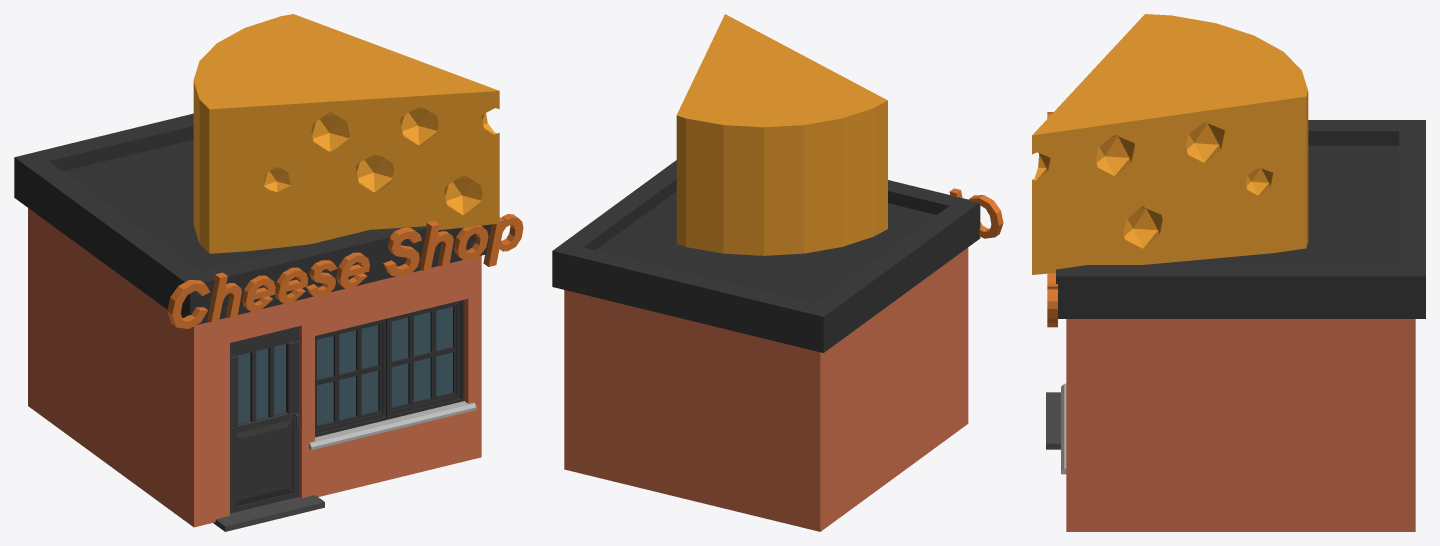
3 renders of one model, left to right at view 1: azimuth 30°, elevation 25°; view 2: azimuth 150°, elevation 25°; view 3: azimuth 270°, elevation 25°, orthographic. The views are drawn at different scales.
Visible parts, largest first — view 1: cheesemarket.001; view 2: cheesemarket.001; view 3: cheesemarket.001.
Part boxes in pixels (left/top/right/bottom): cheesemarket.001: left=14, top=14, right=523, bottom=531; cheesemarket.001: left=552, top=14, right=1003, bottom=531; cheesemarket.001: left=1032, top=14, right=1425, bottom=531.
Size of the model in its own units: 4.88 by 5.06 by 4.51.
1 material, 1 textured.
